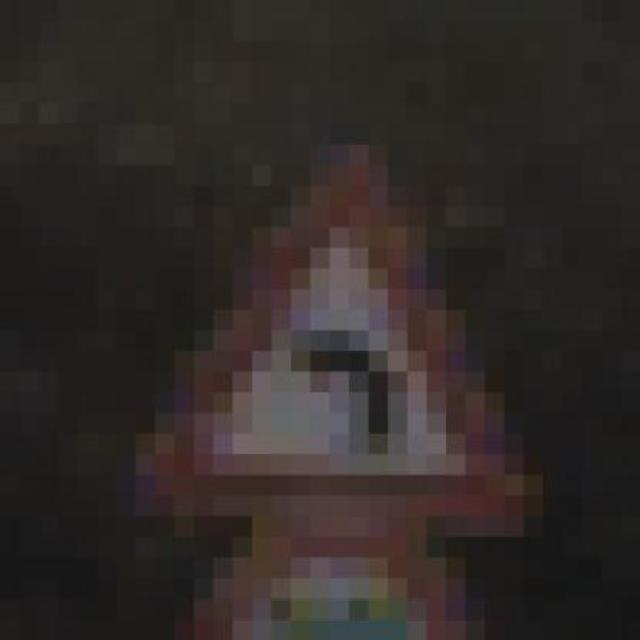Dangerous Left Curve Ahead: (97, 123, 543, 537)
